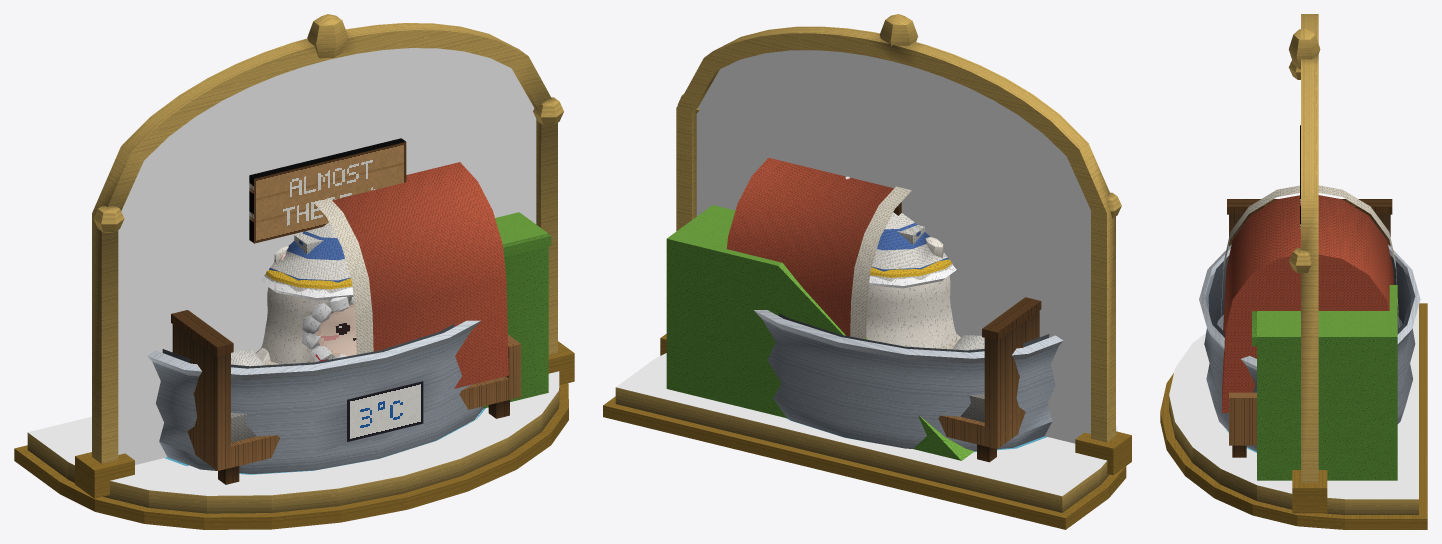
The model's file is suffer.glb.
3 views of the same model, side by side, from view 1: azimuth 30°, elevation 25°; view 2: azimuth 150°, elevation 25°; view 3: azimuth 270°, elevation 25° (orthographic). The views are drawn at different scales.
Parts seen in each view (by area): view 1: flat, tub, frame, blanket, stage_rim, stage_top, bed, sign, hill, body, nightcap, face (+1 smaller); view 2: flat, tub, frame, hill, blanket, stage_rim, stage_top, bed, body, nightcap, headband; view 3: hill, blanket, frame, stage_rim, stage_top, tub, bed.
Part boxes in pixels (left/top/right/bottom): flat: left=118, top=48, right=536, bottom=464; tub: left=147, top=320, right=484, bottom=473; frame: left=75, top=14, right=574, bottom=498; blanket: left=313, top=162, right=508, bottom=388; stage_rim: left=14, top=383, right=568, bottom=529; stage_top: left=28, top=371, right=559, bottom=495; bed: left=171, top=310, right=520, bottom=484; sign: left=249, top=138, right=406, bottom=243; hill: left=483, top=212, right=551, bottom=408; body: left=261, top=246, right=354, bottom=364; nightcap: left=261, top=222, right=353, bottom=300; face: left=315, top=304, right=356, bottom=356; flat: left=696, top=50, right=1090, bottom=443; tub: left=754, top=310, right=1063, bottom=451; frame: left=660, top=14, right=1131, bottom=475; hill: left=666, top=205, right=974, bottom=460; blanket: left=727, top=157, right=911, bottom=339; stage_rim: left=603, top=387, right=1126, bottom=529; stage_top: left=616, top=353, right=1117, bottom=496; bed: left=938, top=297, right=1041, bottom=462; body: left=866, top=237, right=956, bottom=348; nightcap: left=845, top=176, right=956, bottom=288; headband: left=870, top=259, right=952, bottom=281; hill: left=1252, top=285, right=1397, bottom=480; blanket: left=1220, top=185, right=1399, bottom=412; frame: left=1288, top=14, right=1327, bottom=513; stage_rim: left=1160, top=303, right=1427, bottom=529; stage_top: left=1169, top=291, right=1418, bottom=499; tub: left=1199, top=244, right=1420, bottom=451; bed: left=1227, top=199, right=1392, bottom=457.
Size of the model in its own units: 2.9 by 2.47 by 1.52.
Materials: 13 (13 with a texture image).
